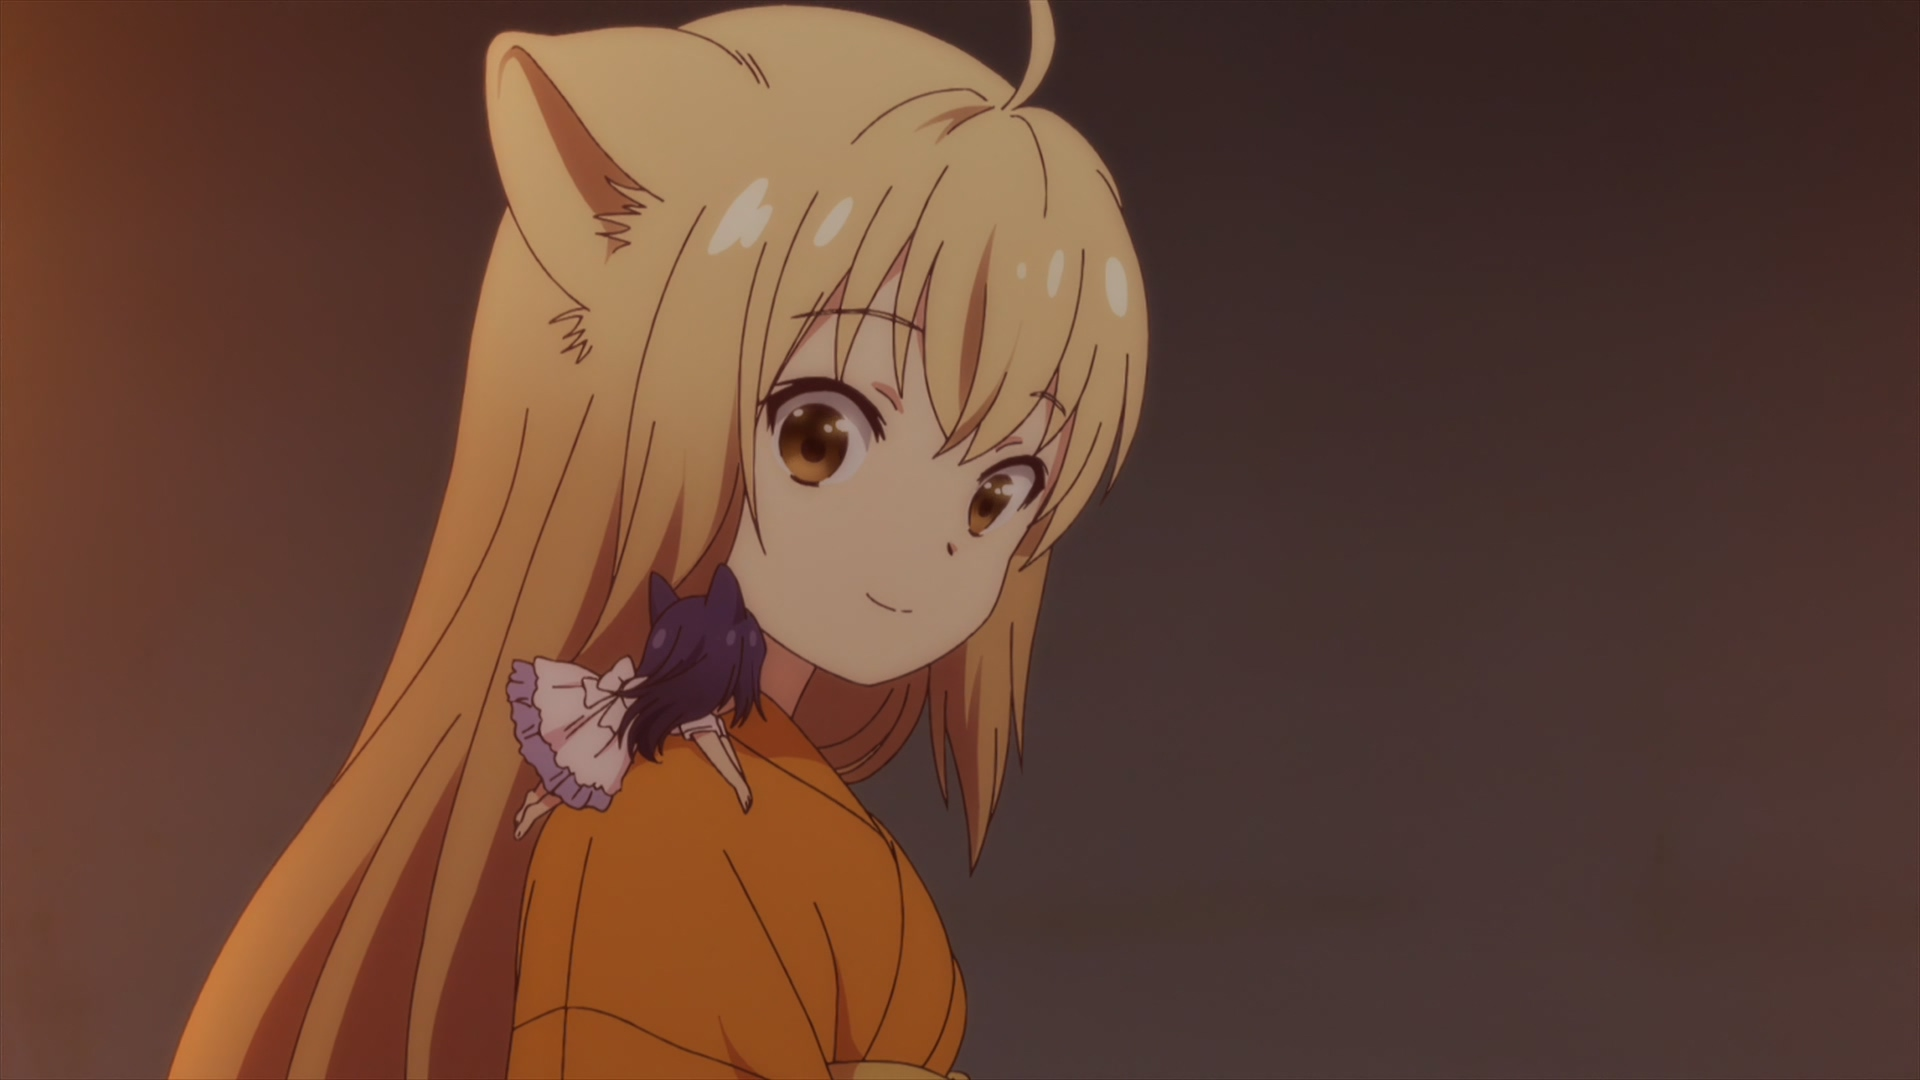柚: (171, 1, 1149, 1080)
皋: (506, 567, 767, 837)
